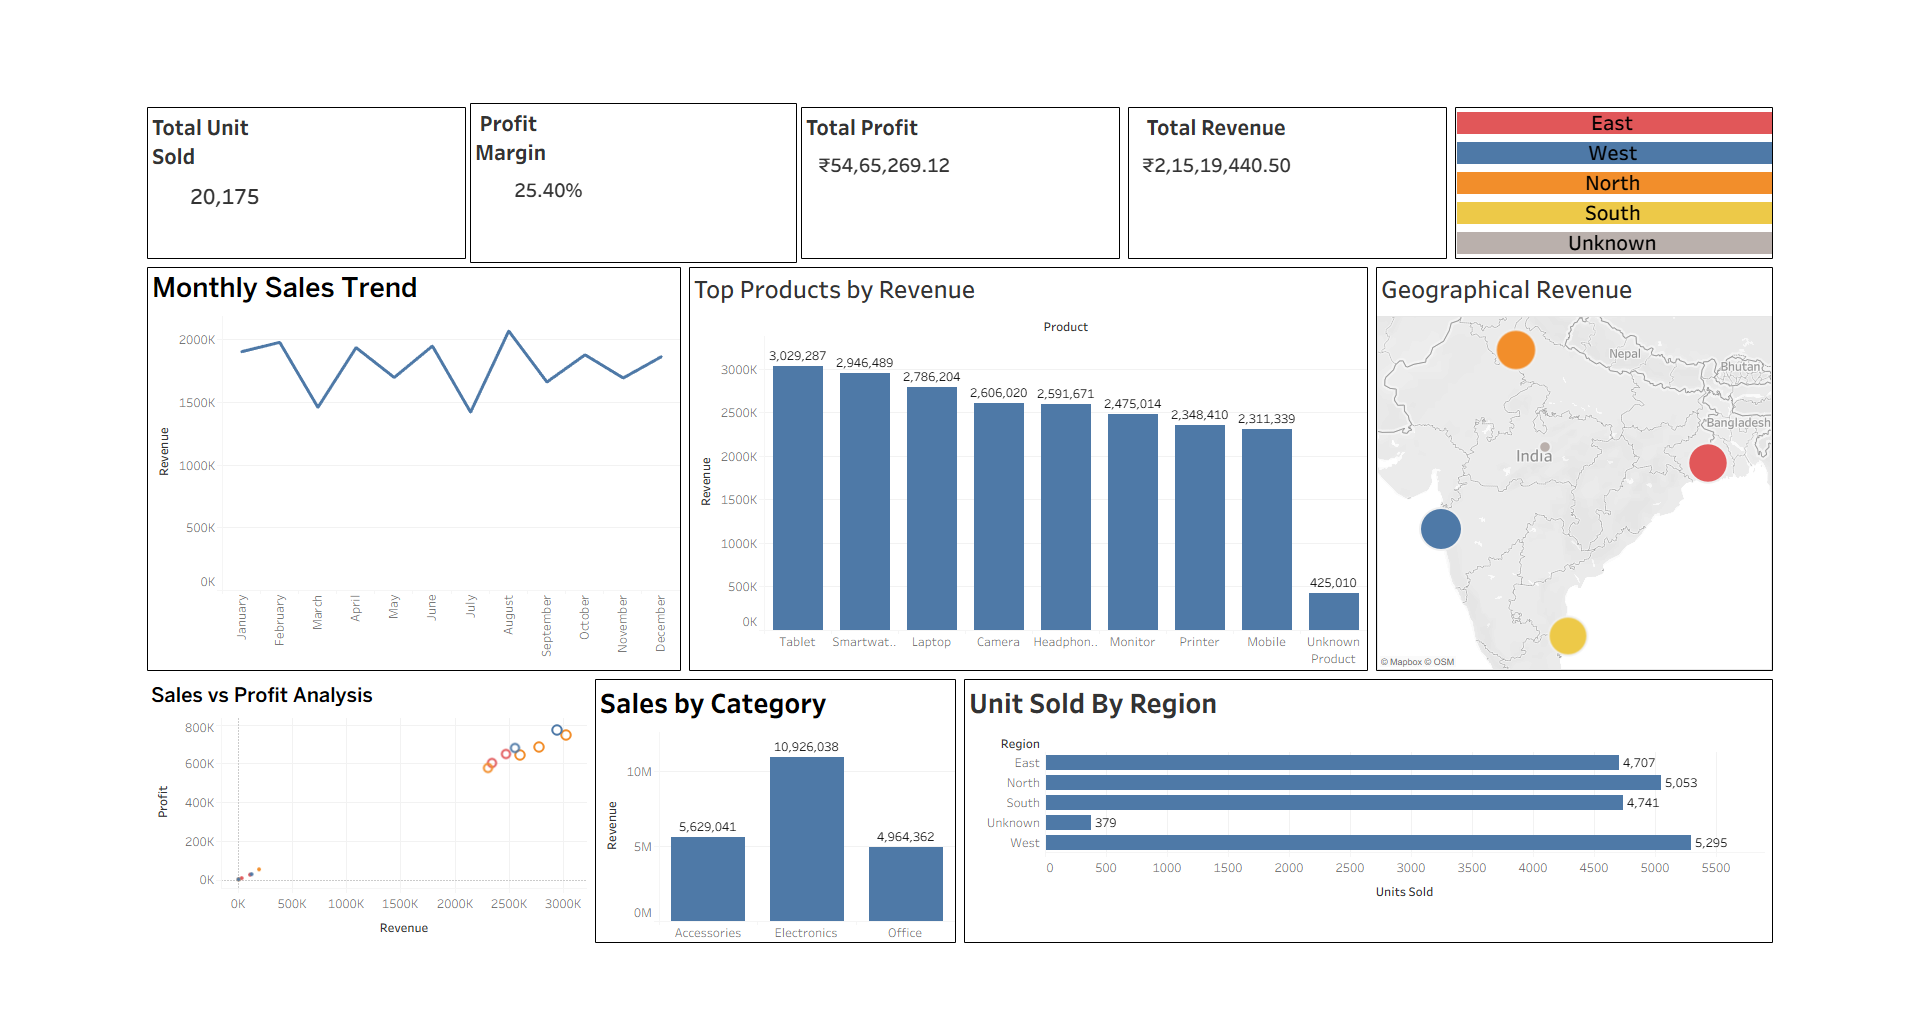

Layout of this report page (visuals, bound fields, positions):
{"tool":"tableau","page":{"name":"Dashboard 1","canvas":[1000,1000],"units":"permille","ordinal":0},"visuals":[{"type":"worksheet","title":"KPI 4","mark":"Automatic","box":[4.9,9.3,198.2,186.1]},{"type":"worksheet","title":"KPI 3","mark":"Automatic","box":[203,9.3,198.2,186.1]},{"type":"worksheet","title":"KPI 2","mark":"Automatic","box":[401.2,9.3,198.2,186.1]},{"type":"worksheet","title":"KPI 1","mark":"Automatic","box":[599.4,9.3,198.2,186.1]},{"type":"worksheet","title":"Region Filter","mark":"Automatic","rows":["Region"],"cols":["Calculation_1579770297634817"],"box":[797.6,9.3,197.6,186.1]},{"type":"worksheet","title":"Sales trend","mark":"Automatic","rows":["Revenue"],"cols":["Date"],"box":[4.9,195.3,328.4,479.1]},{"type":"worksheet","title":"Top products revenue","mark":"Automatic","rows":["Revenue"],"cols":["Product"],"box":[333.3,195.3,416.4,479.1]},{"type":"worksheet","title":"Map","mark":"Automatic","rows":["Latitude"],"cols":["Longitude"],"box":[749.7,195.3,245.5,479.1]},{"type":"worksheet","title":"Sales vs profit","mark":"Automatic","rows":["Profit"],"cols":["Revenue"],"box":[4.9,674.5,271.4,316.2]},{"type":"worksheet","title":"Sales category","mark":"Automatic","rows":["Revenue"],"cols":["Category"],"box":[276.3,674.5,223.7,316.2]},{"type":"worksheet","title":"unit sold","mark":"Automatic","rows":["Region"],"cols":["Units_Sold"],"box":[500,674.5,495.2,316.2]}]}

Visuals, with their boxes on the dashboard's canvas, which has no fixed pixel size, in thousandths of its width and height (x1, y1, x2, y2). These are canvas units, not pixel positions in the 1920x1035 screenshot, which may show the page scaled, cropped or inside an application window:
"KPI 4" worksheet: rect(5, 9, 203, 195)
"KPI 3" worksheet: rect(203, 9, 401, 195)
"KPI 2" worksheet: rect(401, 9, 599, 195)
"KPI 1" worksheet: rect(599, 9, 798, 195)
"Region Filter" worksheet: rect(798, 9, 995, 195)
"Sales trend" worksheet: rect(5, 195, 333, 674)
"Top products revenue" worksheet: rect(333, 195, 750, 674)
"Map" worksheet: rect(750, 195, 995, 674)
"Sales vs profit" worksheet: rect(5, 674, 276, 991)
"Sales category" worksheet: rect(276, 674, 500, 991)
"unit sold" worksheet: rect(500, 674, 995, 991)
